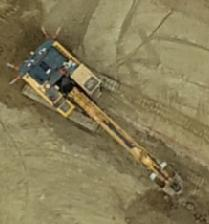excavator: (17, 38, 184, 205)
